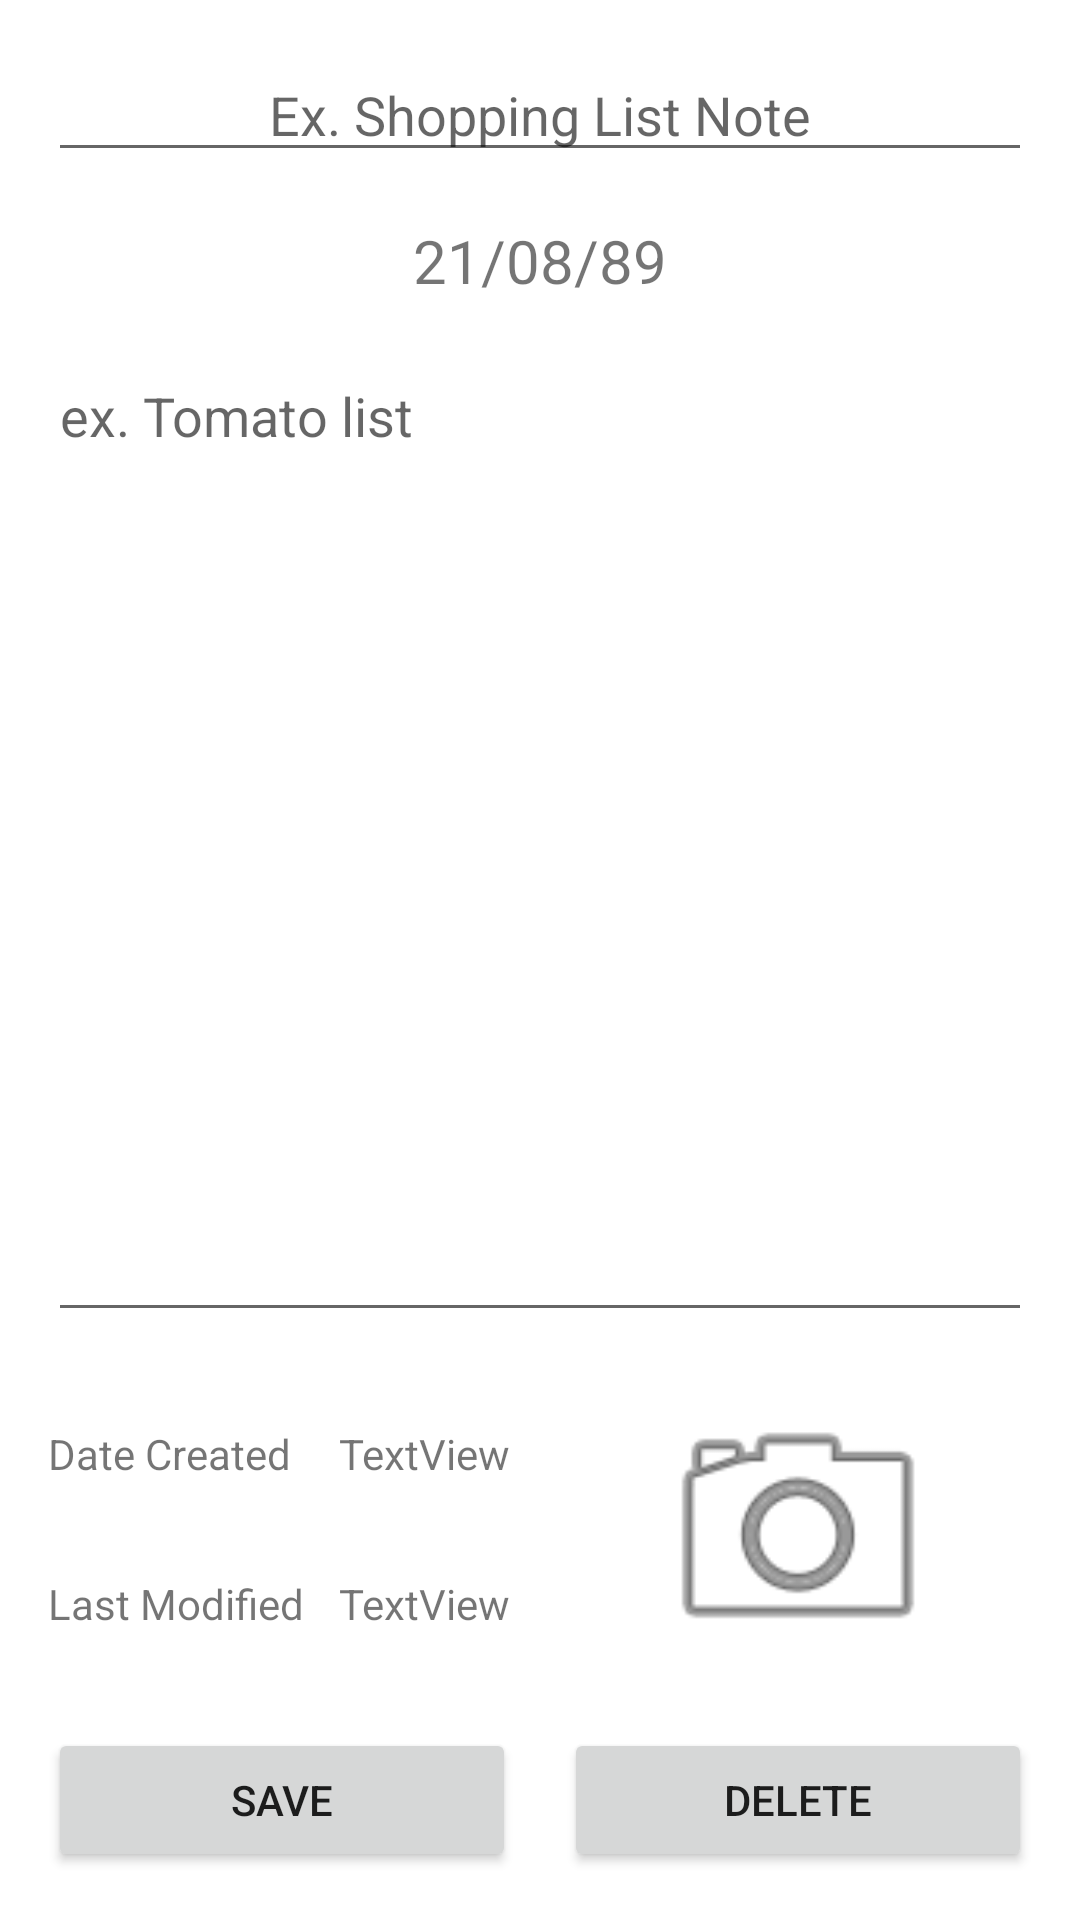

Named icons in this screenshot (1080 x 1920) and their centers, [x,y]:
camera: [798,1525]
